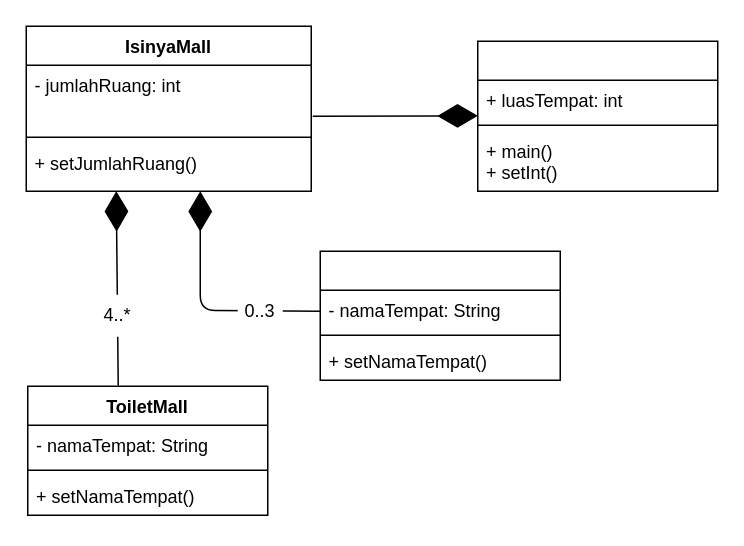
This 744x546 diagram has some shape labels left out. Here are the shapes that lost their labels. From the top down, the box of each, then its label:
(476, 40, 718, 191): MallKota
(319, 250, 560, 380): RestoranMall
